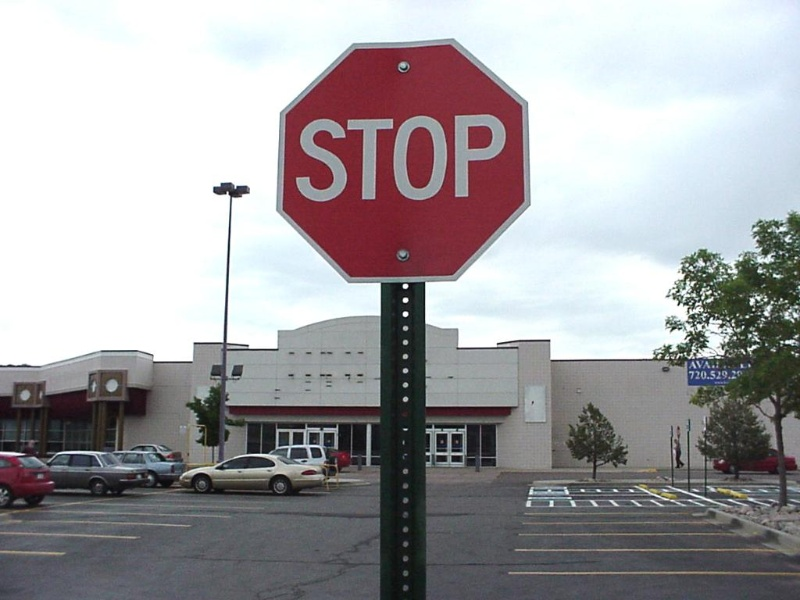stop: (270, 32, 542, 289)
